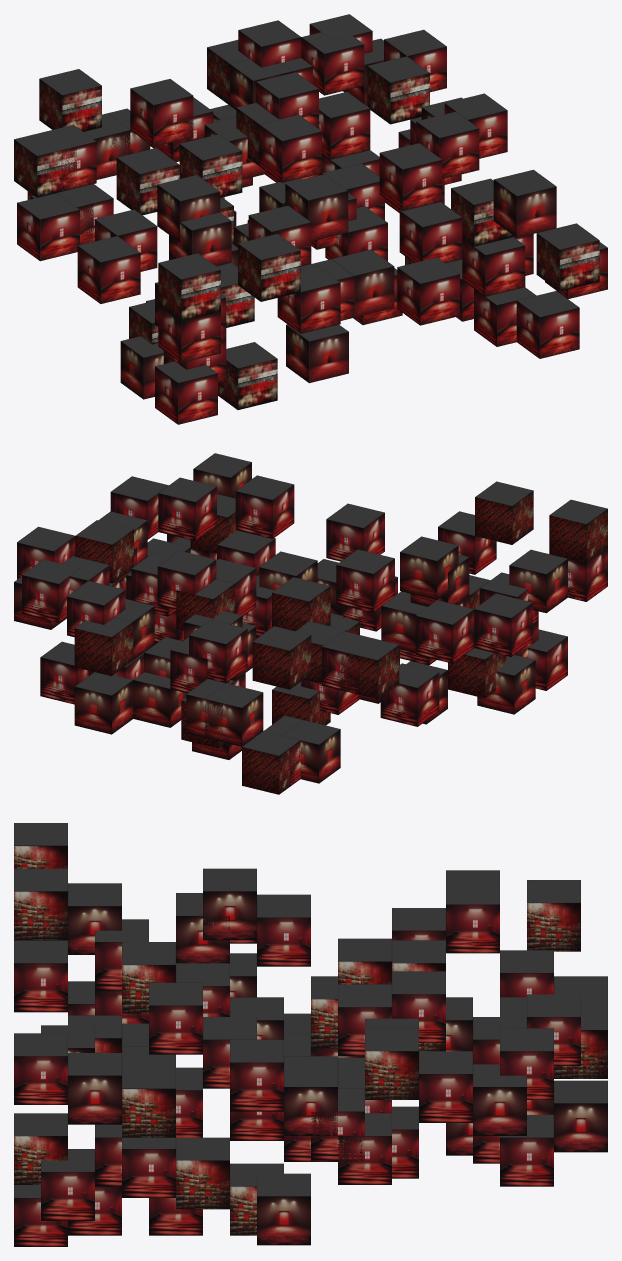
The model's file is full_room_0.fbx.
The picture shows the model from 3 angles, top to bottom: view 1: azimuth 30°, elevation 25°; view 2: azimuth 150°, elevation 25°; view 3: azimuth 270°, elevation 25°; orthographic projection. The views are drawn at different scales.
Visible parts, largest first — view 1: MyCube.012, MyCube.023, MyCube.026, MyCube.041, MyCube.237, MyCube.140, MyCube.035, MyCube.185, MyCube.249, MyCube.014, MyCube.028, MyCube.233 (+50 smaller); view 2: MyCube.002, MyCube.475, MyCube.026, MyCube.240, MyCube.140, MyCube.042, MyCube.014, MyCube.035, MyCube.003, MyCube.022, MyCube.011, MyCube.234 (+52 smaller); view 3: MyCube.002, MyCube.014, MyCube.024, MyCube.026, MyCube.045, MyCube.230, MyCube.240, MyCube.246, MyCube.295, MyCube.023, MyCube.029, MyCube.233 (+55 smaller).
Boxes of the visible parts, box(x1,y1,x2,y2) form: MyCube.012: box(536, 223, 599, 291); MyCube.023: box(493, 169, 556, 237); MyCube.026: box(379, 143, 442, 211); MyCube.041: box(516, 291, 579, 358); MyCube.237: box(130, 79, 193, 146); MyCube.140: box(77, 236, 140, 303); MyCube.035: box(158, 253, 220, 321); MyCube.185: box(259, 114, 321, 182); MyCube.249: box(397, 257, 459, 325); MyCube.014: box(238, 233, 300, 301); MyCube.028: box(17, 193, 79, 261); MyCube.233: box(367, 56, 429, 124); MyCube.002: box(415, 600, 474, 663); MyCube.475: box(252, 626, 311, 689); MyCube.026: box(235, 475, 294, 538); MyCube.240: box(74, 672, 133, 734); MyCube.140: box(474, 593, 532, 656); MyCube.042: box(158, 477, 216, 540); MyCube.014: box(475, 481, 533, 544); MyCube.035: box(549, 499, 607, 562); MyCube.003: box(336, 549, 394, 612); MyCube.022: box(204, 683, 263, 746); MyCube.011: box(340, 636, 399, 699); MyCube.234: box(74, 617, 133, 676); MyCube.002: box(257, 894, 310, 966); MyCube.014: box(14, 868, 67, 940); MyCube.024: box(203, 868, 256, 940); MyCube.026: box(149, 982, 202, 1054); MyCube.045: box(257, 1173, 310, 1245); MyCube.230: box(176, 1137, 229, 1209); MyCube.240: box(554, 1080, 607, 1152); MyCube.246: box(230, 1039, 283, 1111); MyCube.295: box(14, 940, 67, 1012); MyCube.023: box(68, 1053, 121, 1124); MyCube.029: box(419, 1051, 472, 1122); MyCube.233: box(365, 1028, 418, 1099).
Size of the model in its own units: 2200 by 800 by 2200.
